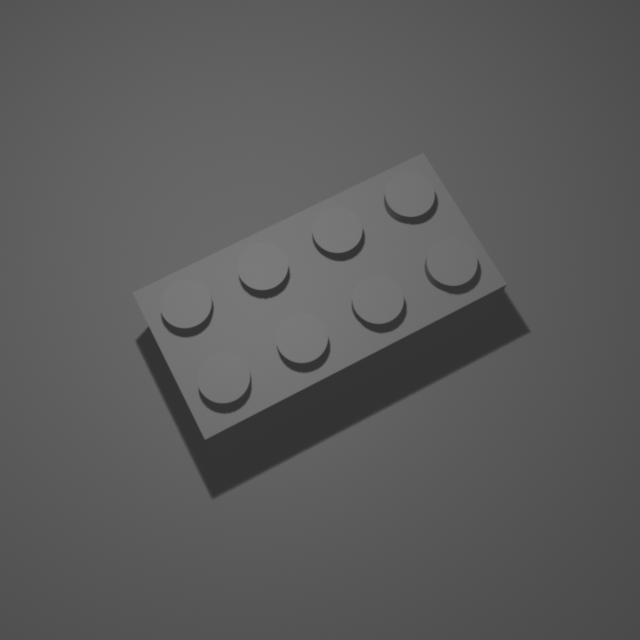lego_2x4: (129, 145, 510, 457)
